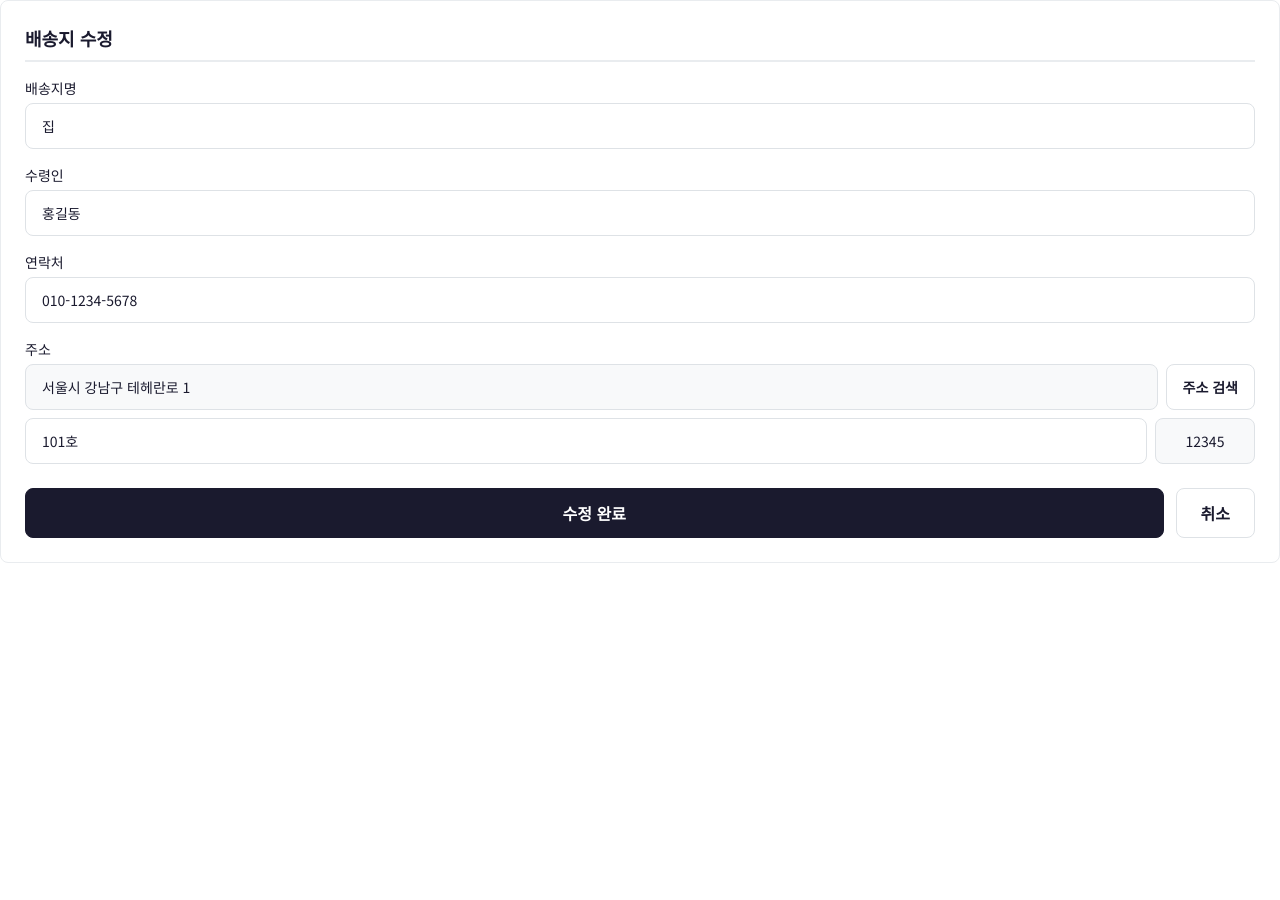
Test case: AddressForm › 수정 모드 › ADDRESS_NOT_FOUND 에러 시 적절한 메시지를 표시한다
The width and height of the screenshot is (1280, 900).
Replace the text in the field labelled "배송지명" with "본가": (640,126) [25,103,1255,149]
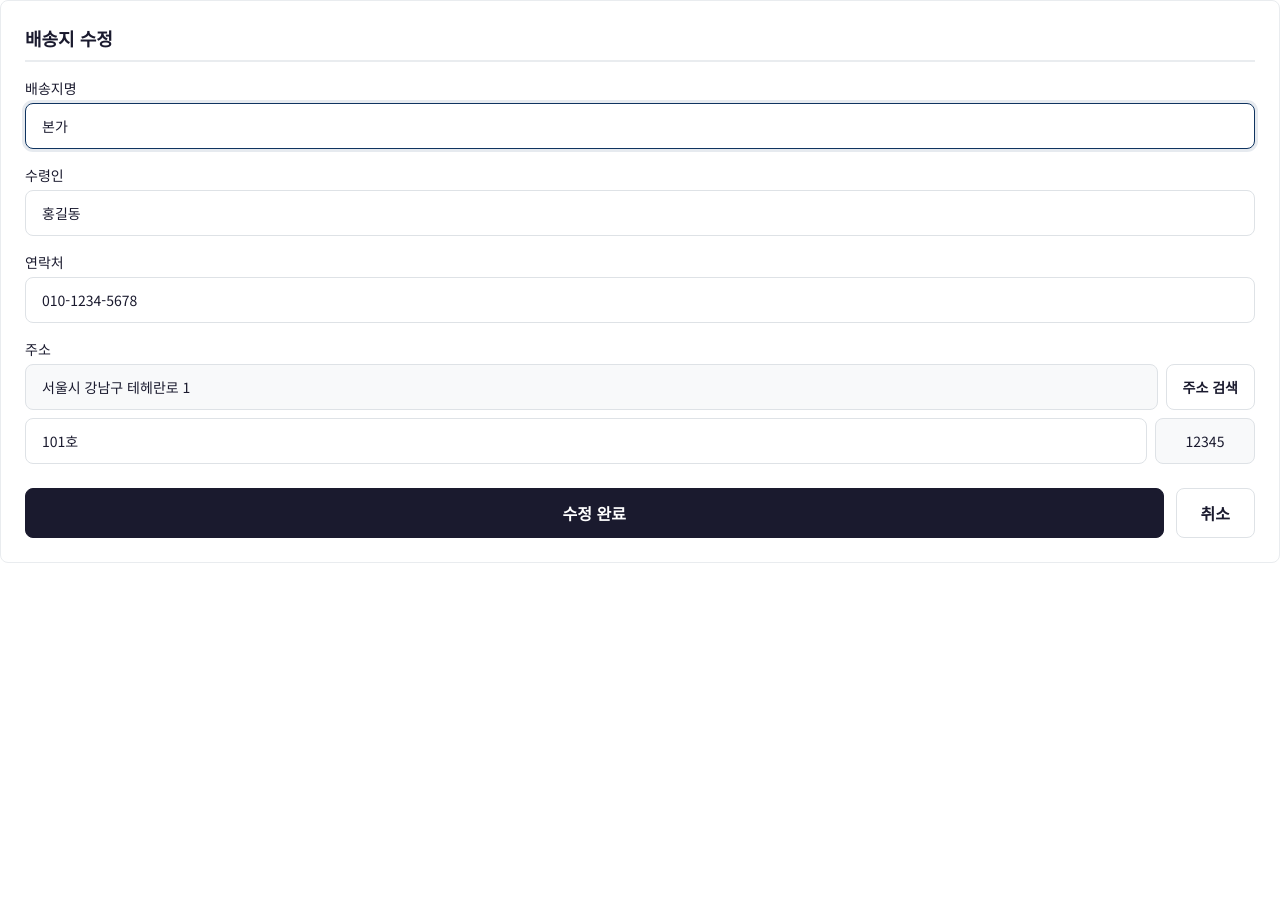
Click the button "수정 완료": (594,513) [25,488,1164,538]
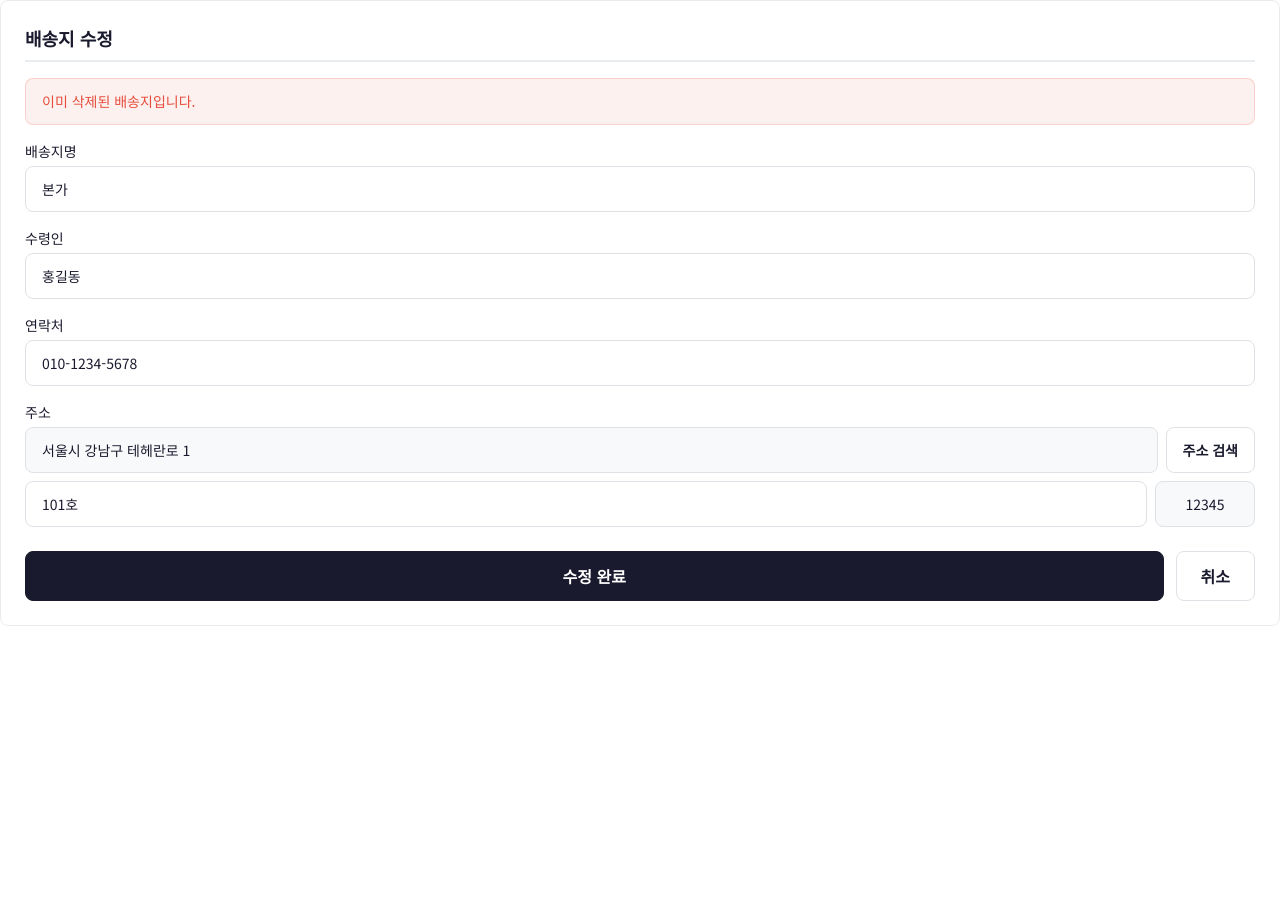
Expected: the text "이미 삭제된 배송지입니다." is shown, [25,78,1255,125]
